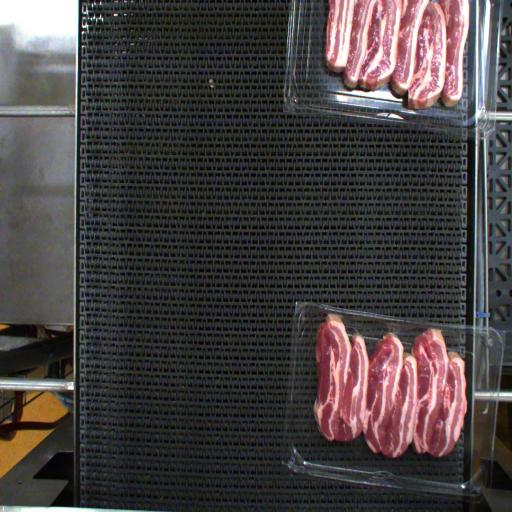packaging-error: (386, 319, 400, 337)
